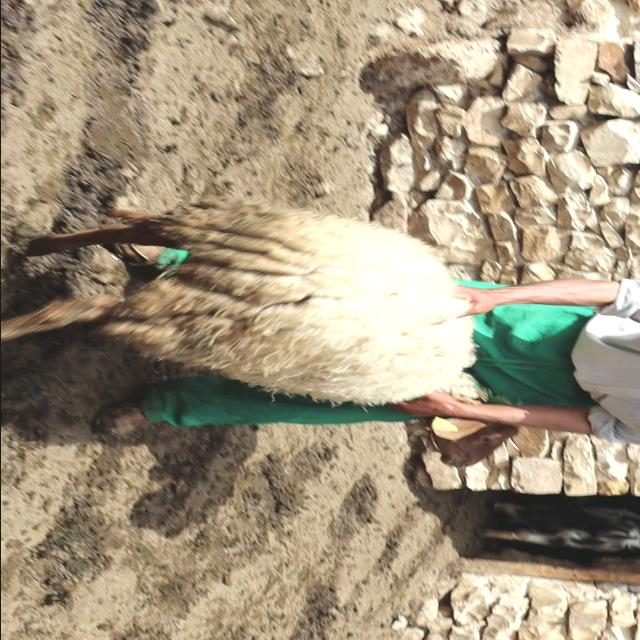Score_4: (1, 196, 487, 405)
